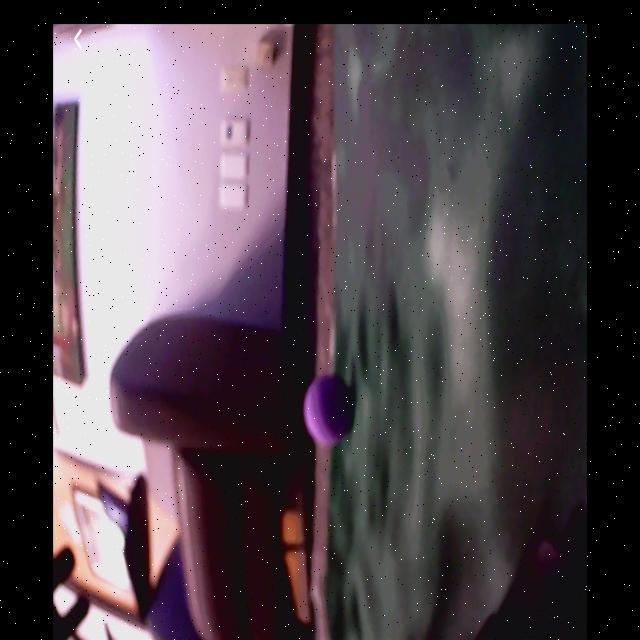ball: (305, 376, 356, 447)
